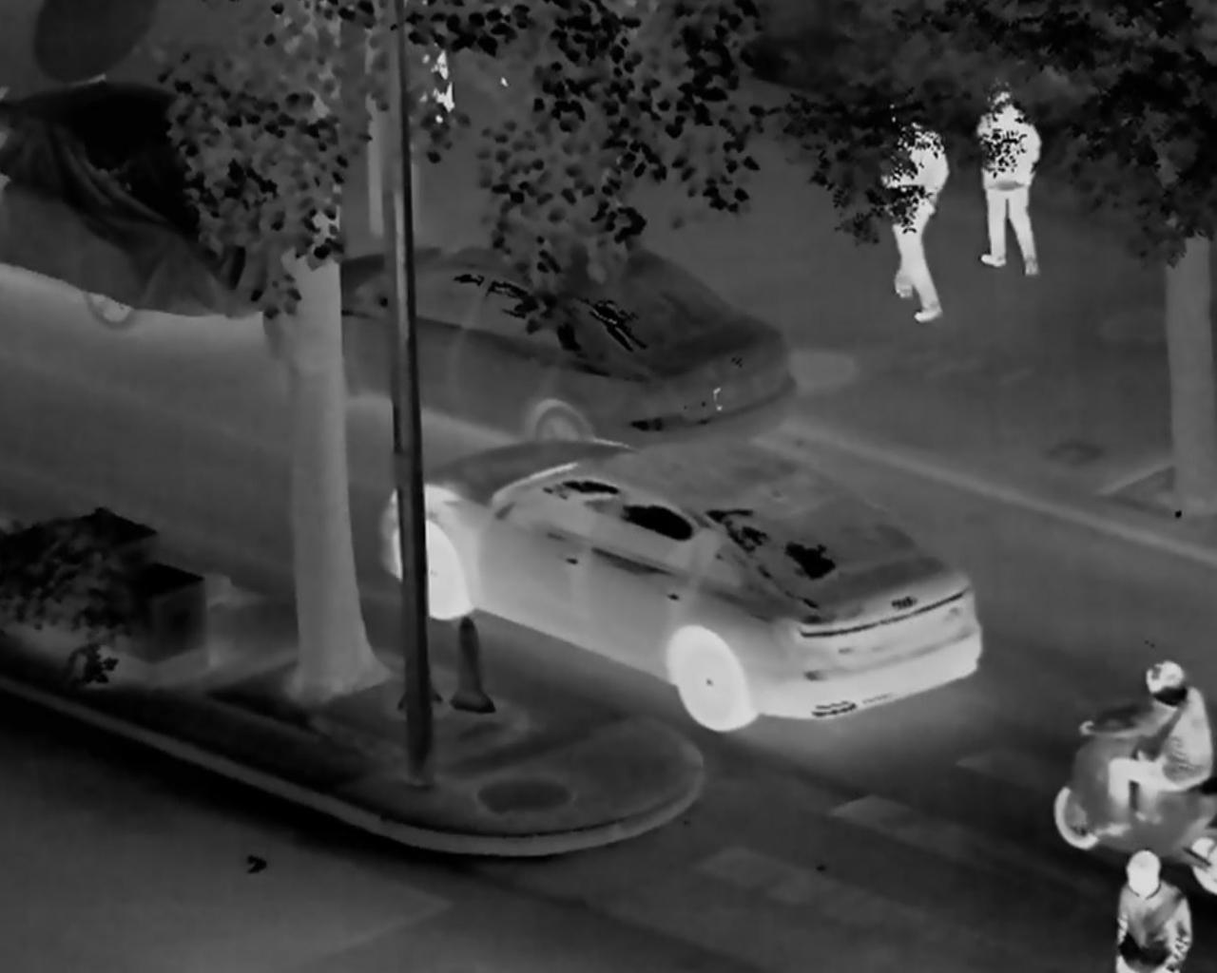person: (1091, 659, 1217, 834), (870, 100, 948, 317), (972, 84, 1045, 274), (1114, 849, 1192, 973)
